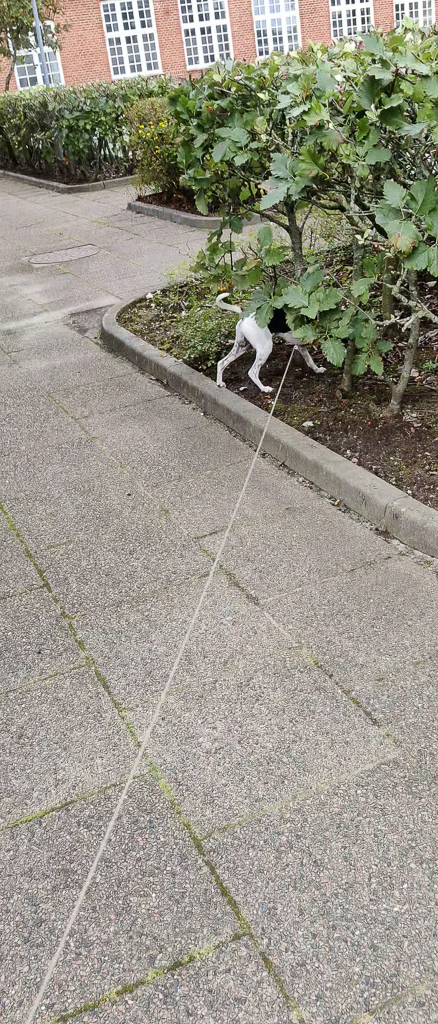Dog: (204, 287, 352, 398)
